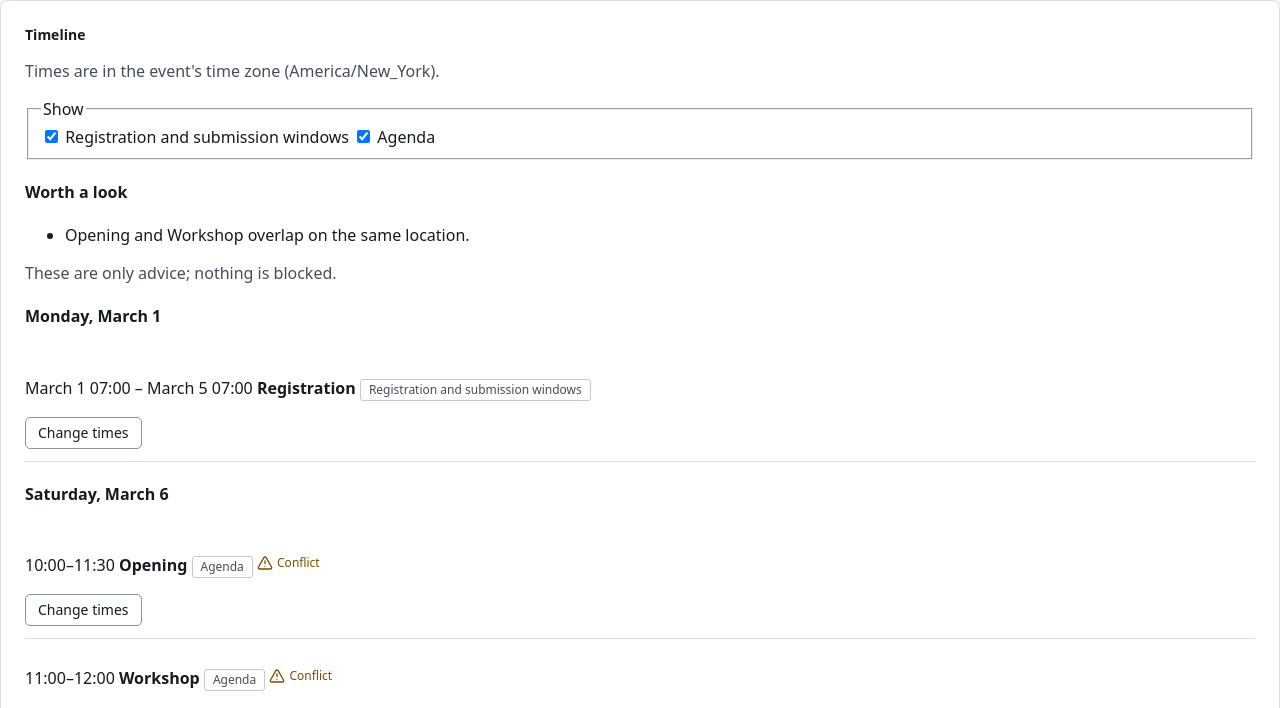
Test case: TimelinePanel › shows the domain's own refusal and keeps the form open
The image size is (1280, 708).
Click the button "Change times" below "10:00–11:30" at {"x": 83, "y": 610}, box [25,594,142,626]
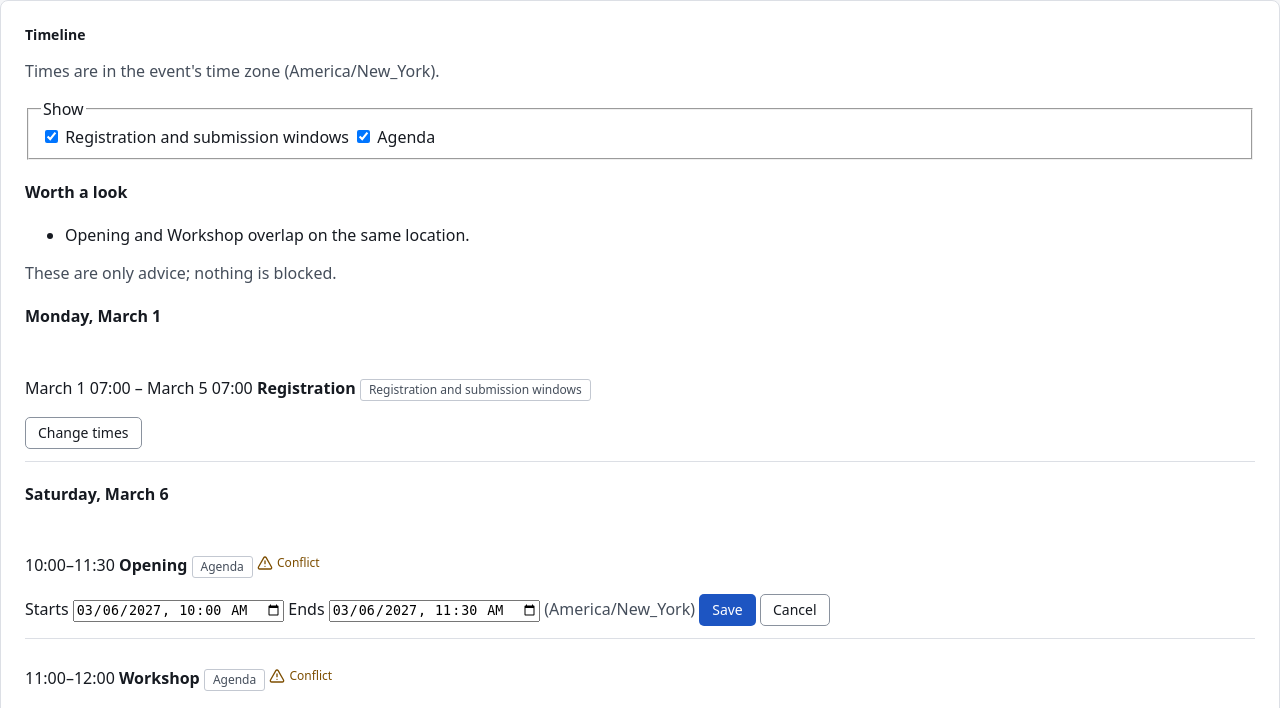
Click the button "Save" at {"x": 728, "y": 610}, box [699,594,756,626]
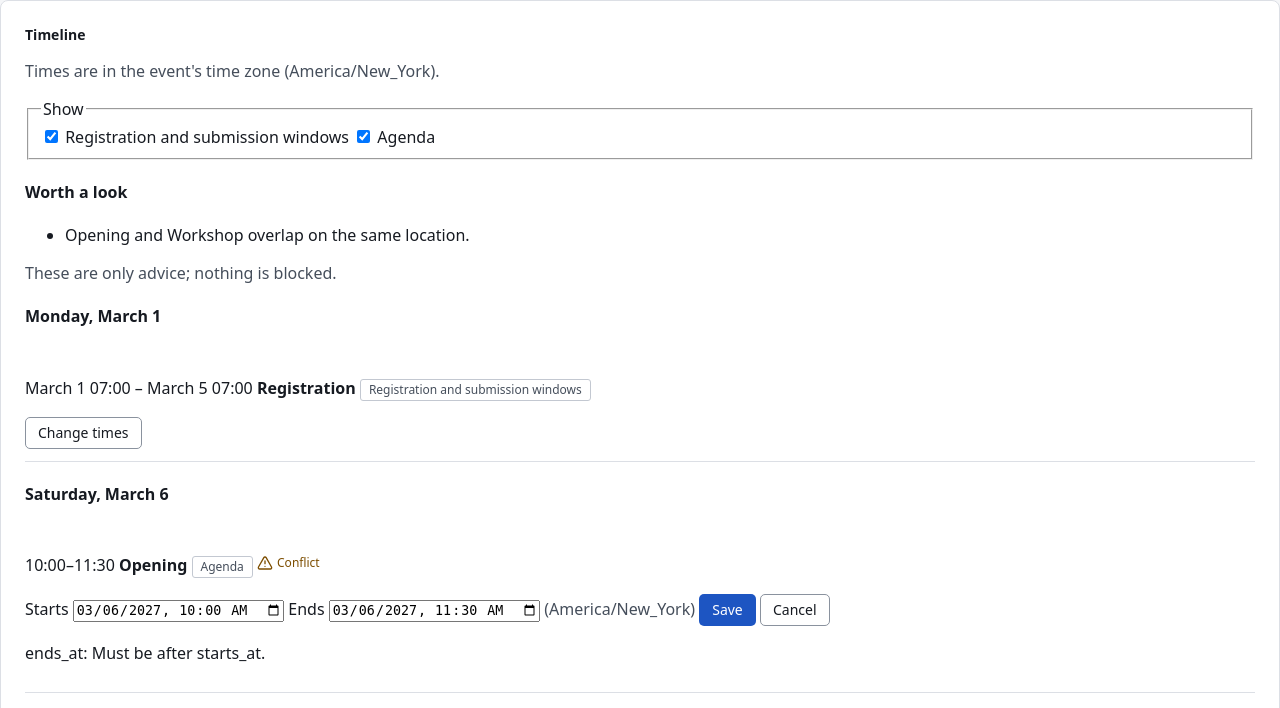
Expected: the form is shown, [25,594,830,664]
Expected: the message "ends_at: Must be after starts_at." is shown, [25,642,265,664]
Click the button "Cancel" at {"x": 795, "y": 610}, box [760,594,830,626]
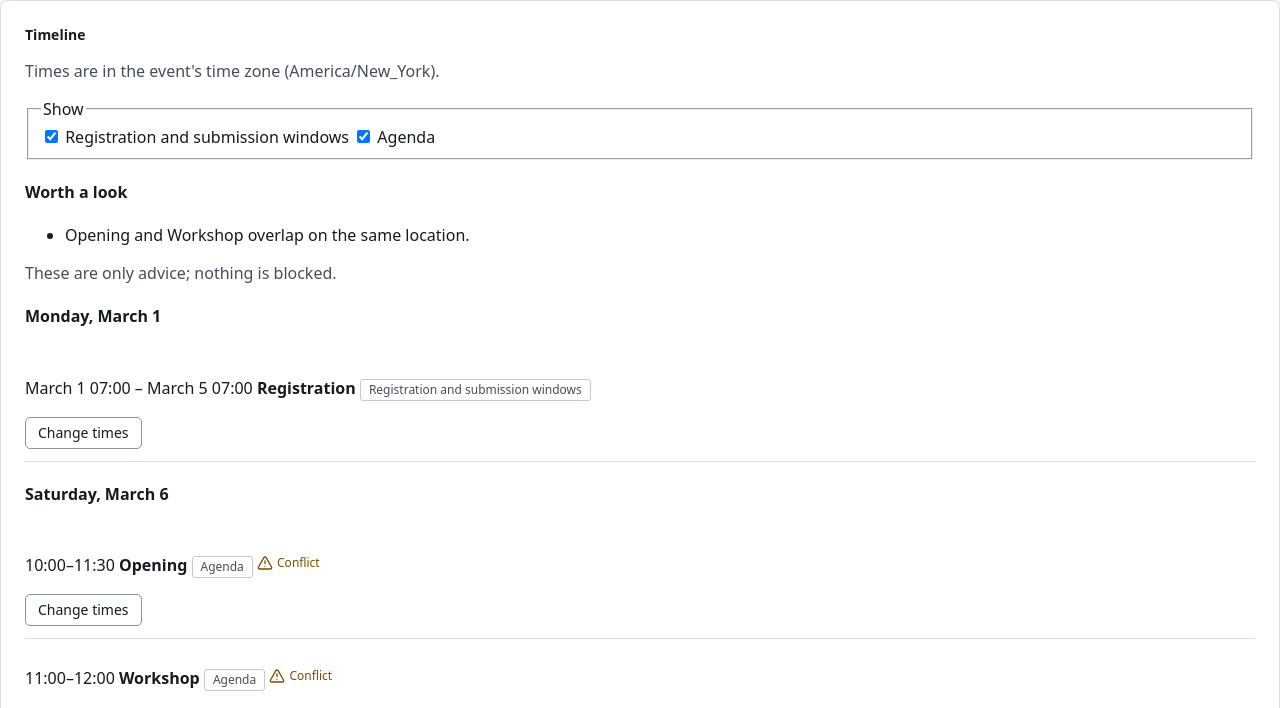
Expected: the form is gone
